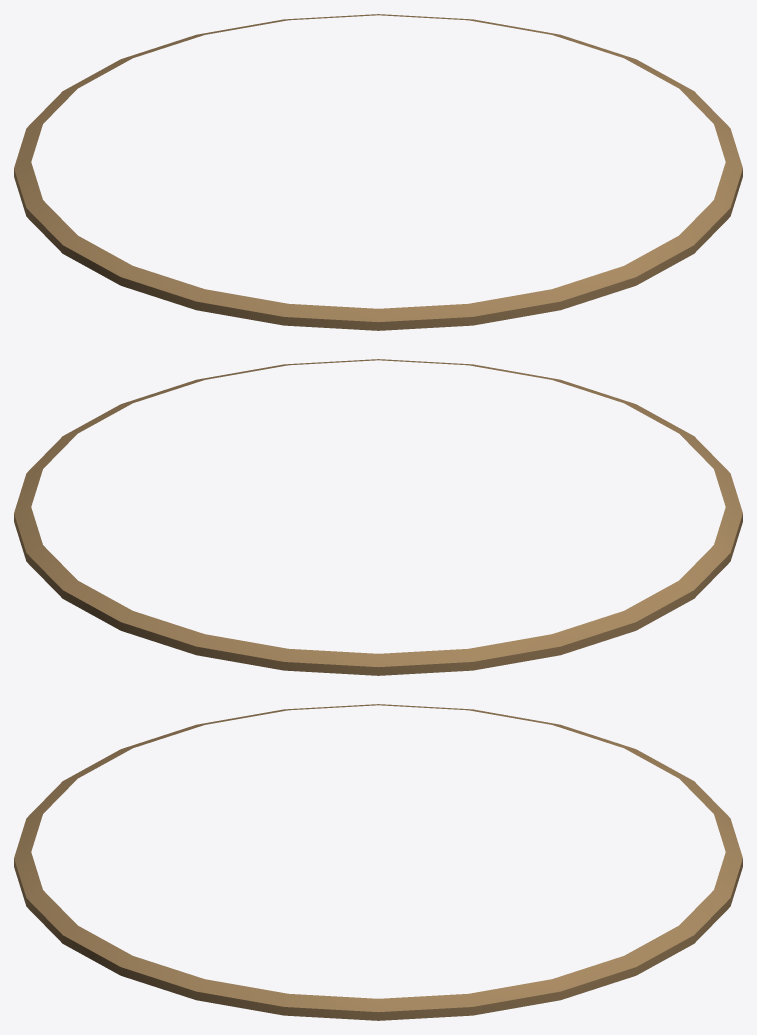
Rendered from dome.trim_bottom.sandstone.glb.
3 views of the same model, one above another, from view 1: azimuth 30°, elevation 25°; view 2: azimuth 150°, elevation 25°; view 3: azimuth 270°, elevation 25° (orthographic).
Visible parts, largest first — view 1: dome_trim_bottom_sandstone; view 2: dome_trim_bottom_sandstone; view 3: dome_trim_bottom_sandstone.
Part boxes in pixels (x1,y1,x2,y2): dome_trim_bottom_sandstone: (14,14,742,330); dome_trim_bottom_sandstone: (14,359,742,675); dome_trim_bottom_sandstone: (14,704,742,1020).
Size of what is drawn, in the model's own units: 7.6 by 0.17 by 7.6.
